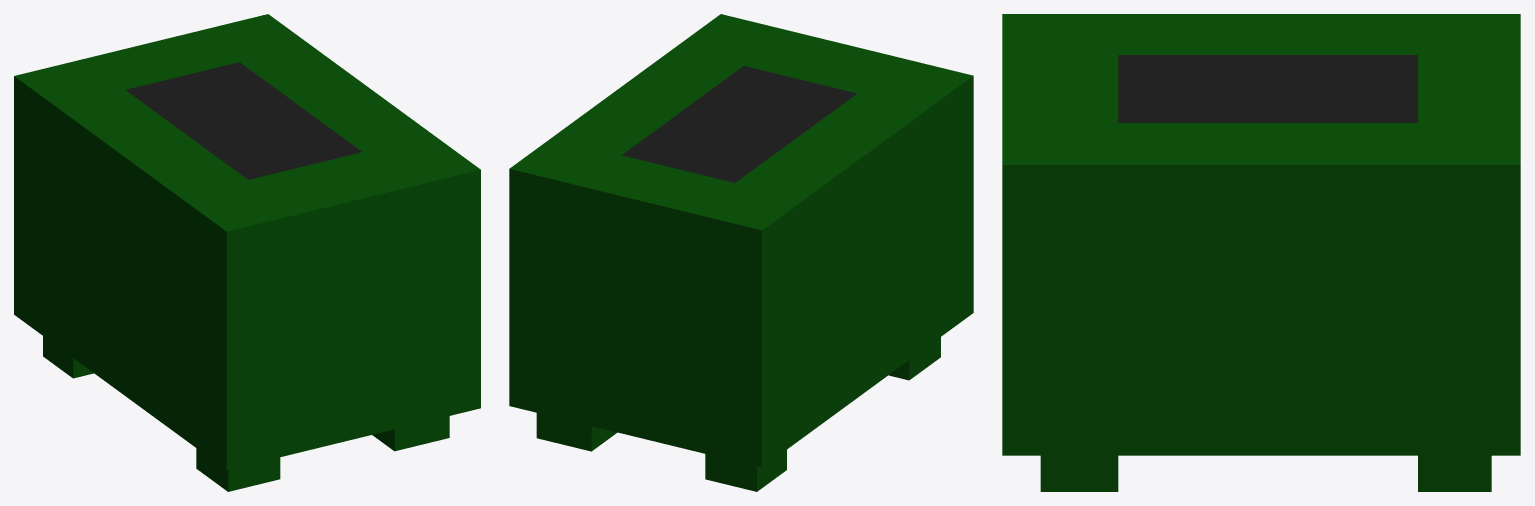
Rendered from Contenedor.fbx.
3 views of the same model, side by side, from view 1: azimuth 30°, elevation 25°; view 2: azimuth 150°, elevation 25°; view 3: azimuth 270°, elevation 25° (orthographic). The views are drawn at different scales.
Visible parts, largest first — view 1: Basurero1; view 2: Basurero1; view 3: Basurero1.
Part boxes in pixels (x1=…): Basurero1: x1=14, y1=14, x2=480, y2=491; Basurero1: x1=509, y1=14, x2=973, y2=491; Basurero1: x1=1002, y1=14, x2=1520, y2=491.
Size of the model in its own units: 6.03 by 6.26 by 8.75.
